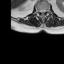CCS_normal: (41, 7, 43, 15)
LFS_stenosis: (45, 7, 48, 14)
LLS_normal: (43, 7, 45, 14)
RFS_normal: (37, 7, 39, 14)
RLS_normal: (39, 7, 41, 14)
